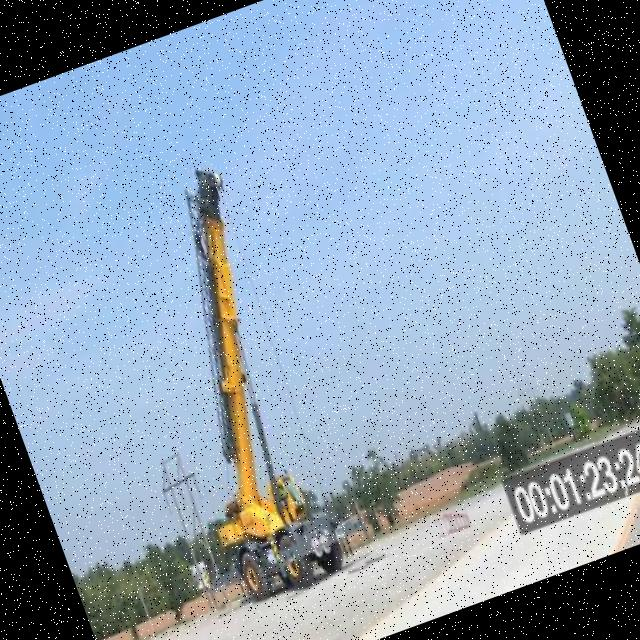Mobile Crane: (96, 166, 358, 611)
